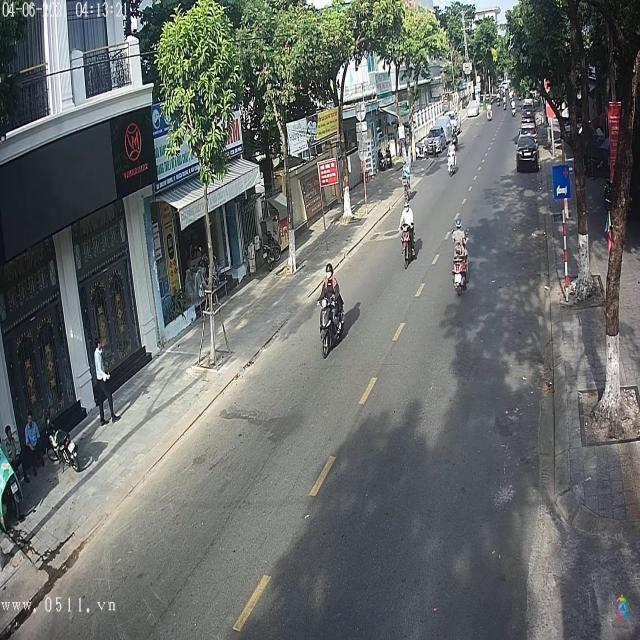car: (516, 138, 539, 167)
motorcycle: (318, 284, 345, 361), (399, 215, 417, 269), (453, 254, 469, 298), (446, 147, 459, 180)
